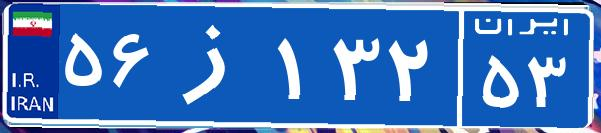1: (273, 28, 330, 110)
2: (385, 28, 445, 110)
3: (330, 28, 385, 110), (525, 38, 570, 115)
5: (57, 26, 110, 107), (475, 38, 525, 113)
6: (110, 28, 158, 105)
ز: (158, 15, 273, 115)
